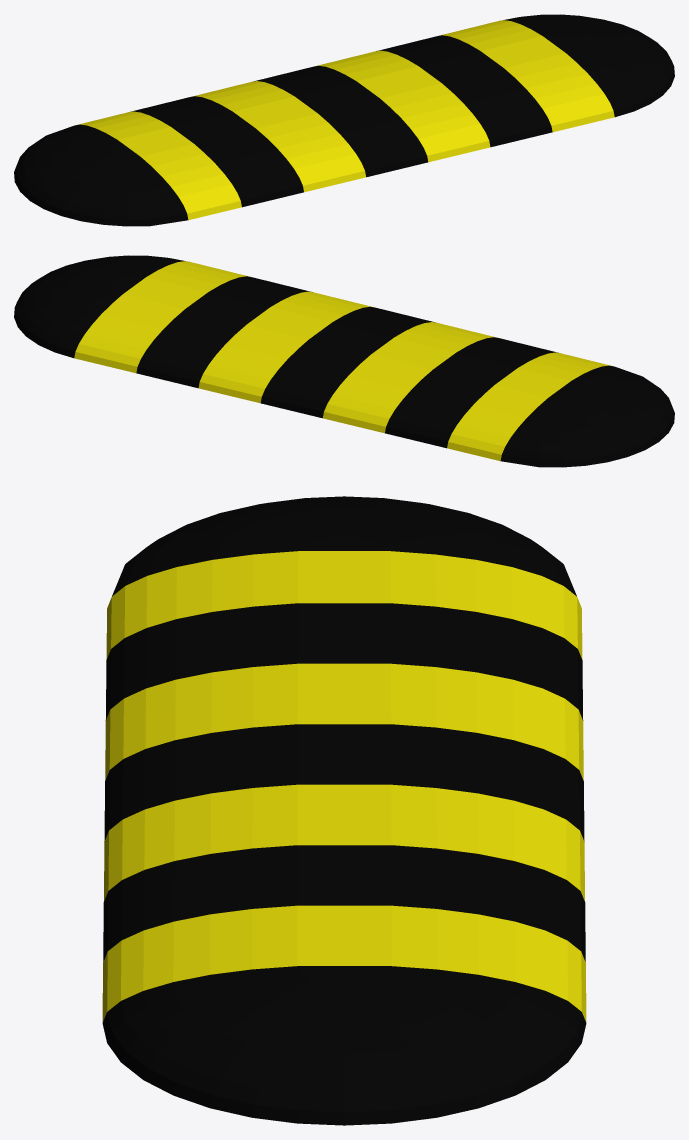
Rendered from bump.fbx.
3 views of the same model, one above another, from view 1: azimuth 30°, elevation 25°; view 2: azimuth 150°, elevation 25°; view 3: azimuth 270°, elevation 25° (orthographic). The views are drawn at different scales.
Parts seen in each view (by area): view 1: bump; view 2: bump; view 3: bump.
Part boxes in pixels (x1,y1,x2,y2): bump: [14, 14, 674, 226]; bump: [14, 255, 674, 467]; bump: [102, 496, 586, 1125].
Size of the model in its own units: 600 by 26.06 by 200.
